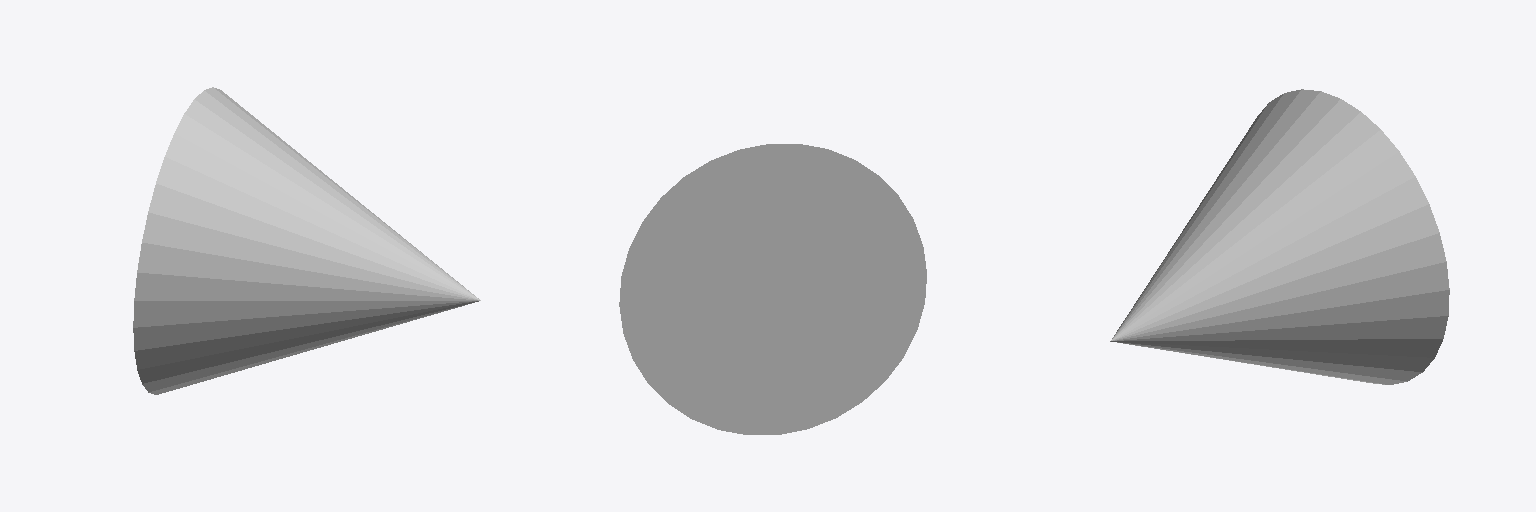
File: raw_data2.obj
3 renders of one model, left to right at view 1: azimuth 30°, elevation 25°; view 2: azimuth 150°, elevation 25°; view 3: azimuth 270°, elevation 25°, orthographic.
Size of the model in its own units: 0.7766 by 0.7501 by 0.8122.